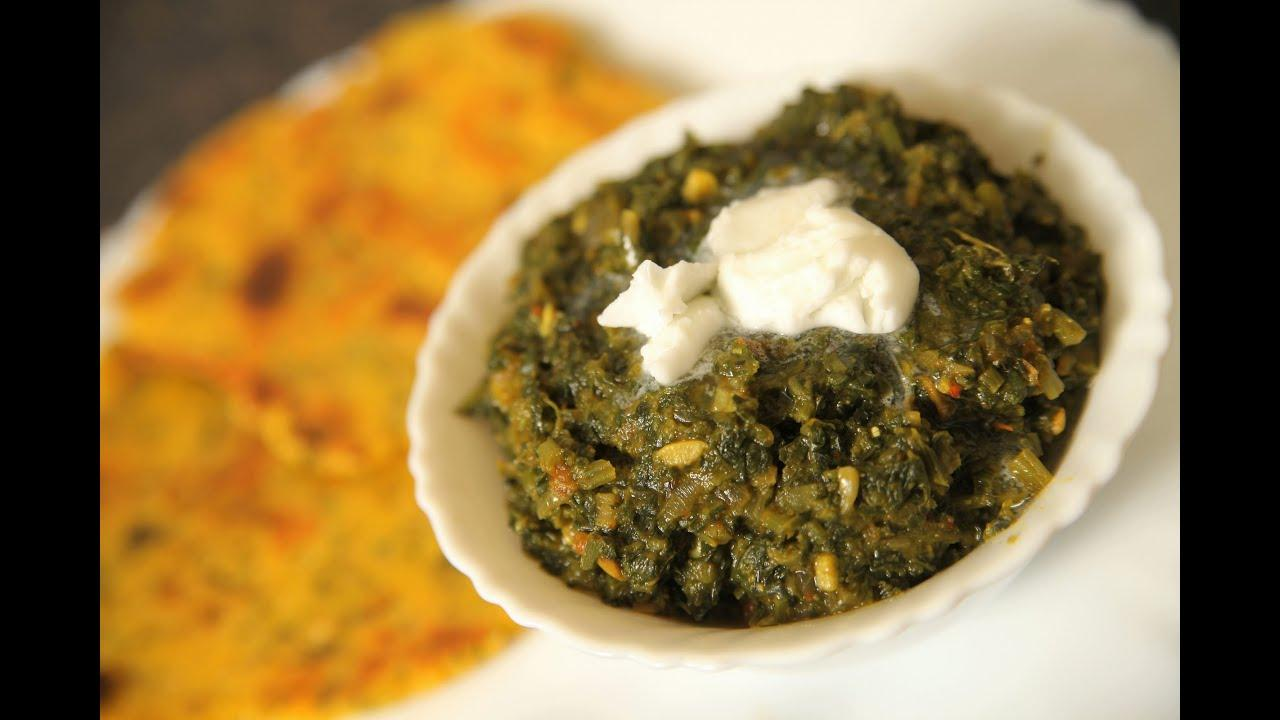saag: (490, 132, 1107, 623)
